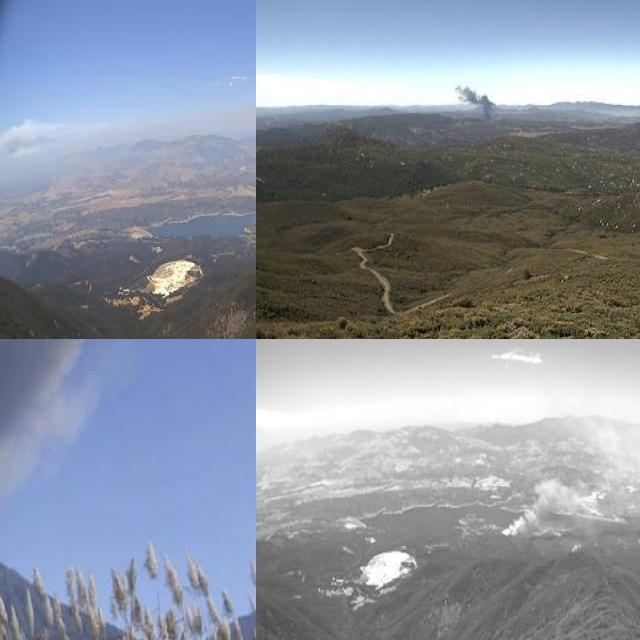smoke: (0, 339, 218, 550), (497, 401, 640, 539), (448, 76, 498, 125)
